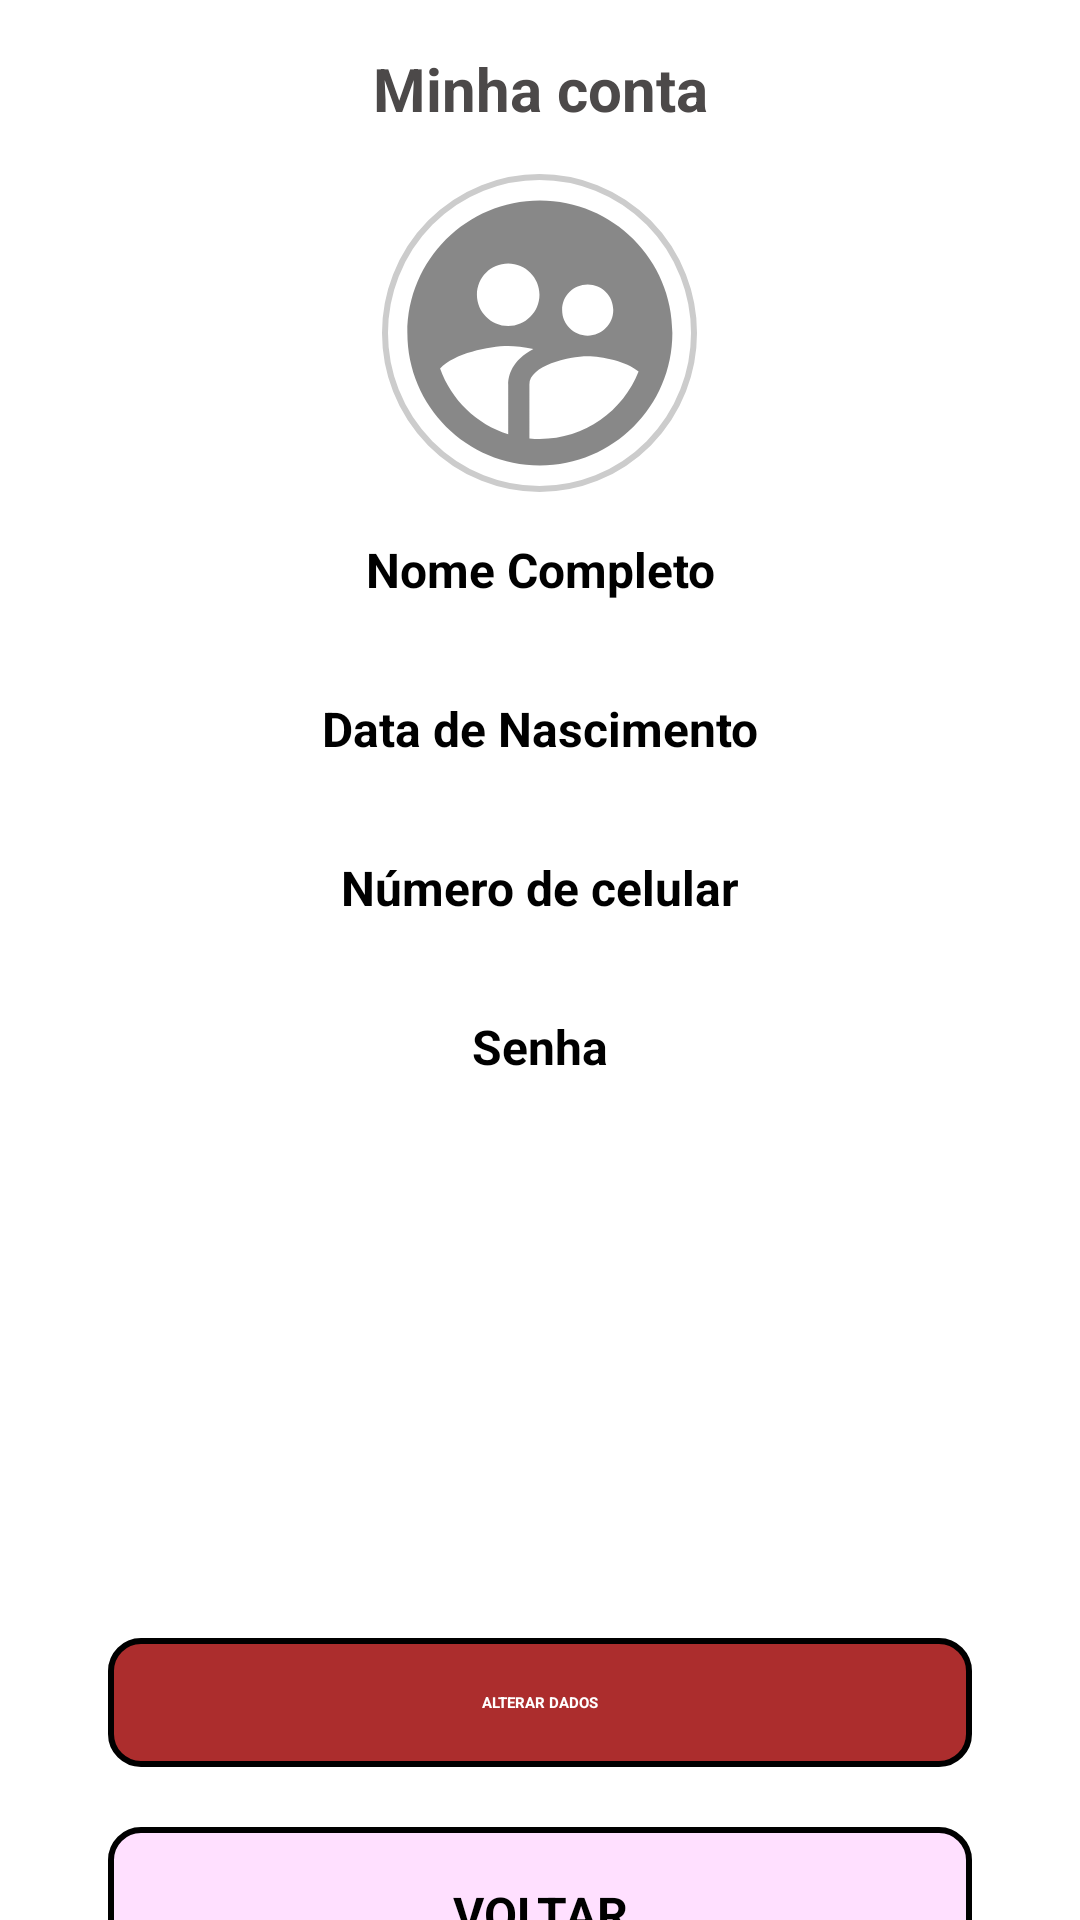

Icons on this 1080 x 1920 Android screen, each with its box as detection(x1, y1, x2, y2):
user: detection(382, 174, 697, 492)
